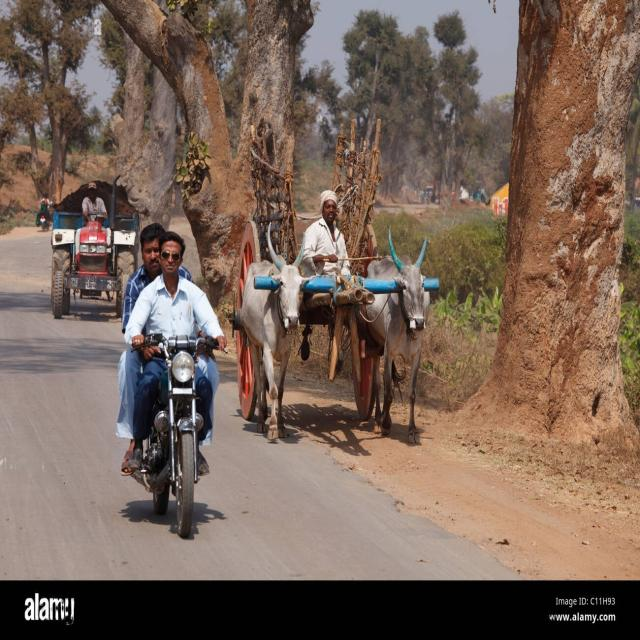motorcycle: (116, 224, 228, 537)
truck: (51, 177, 139, 318)
